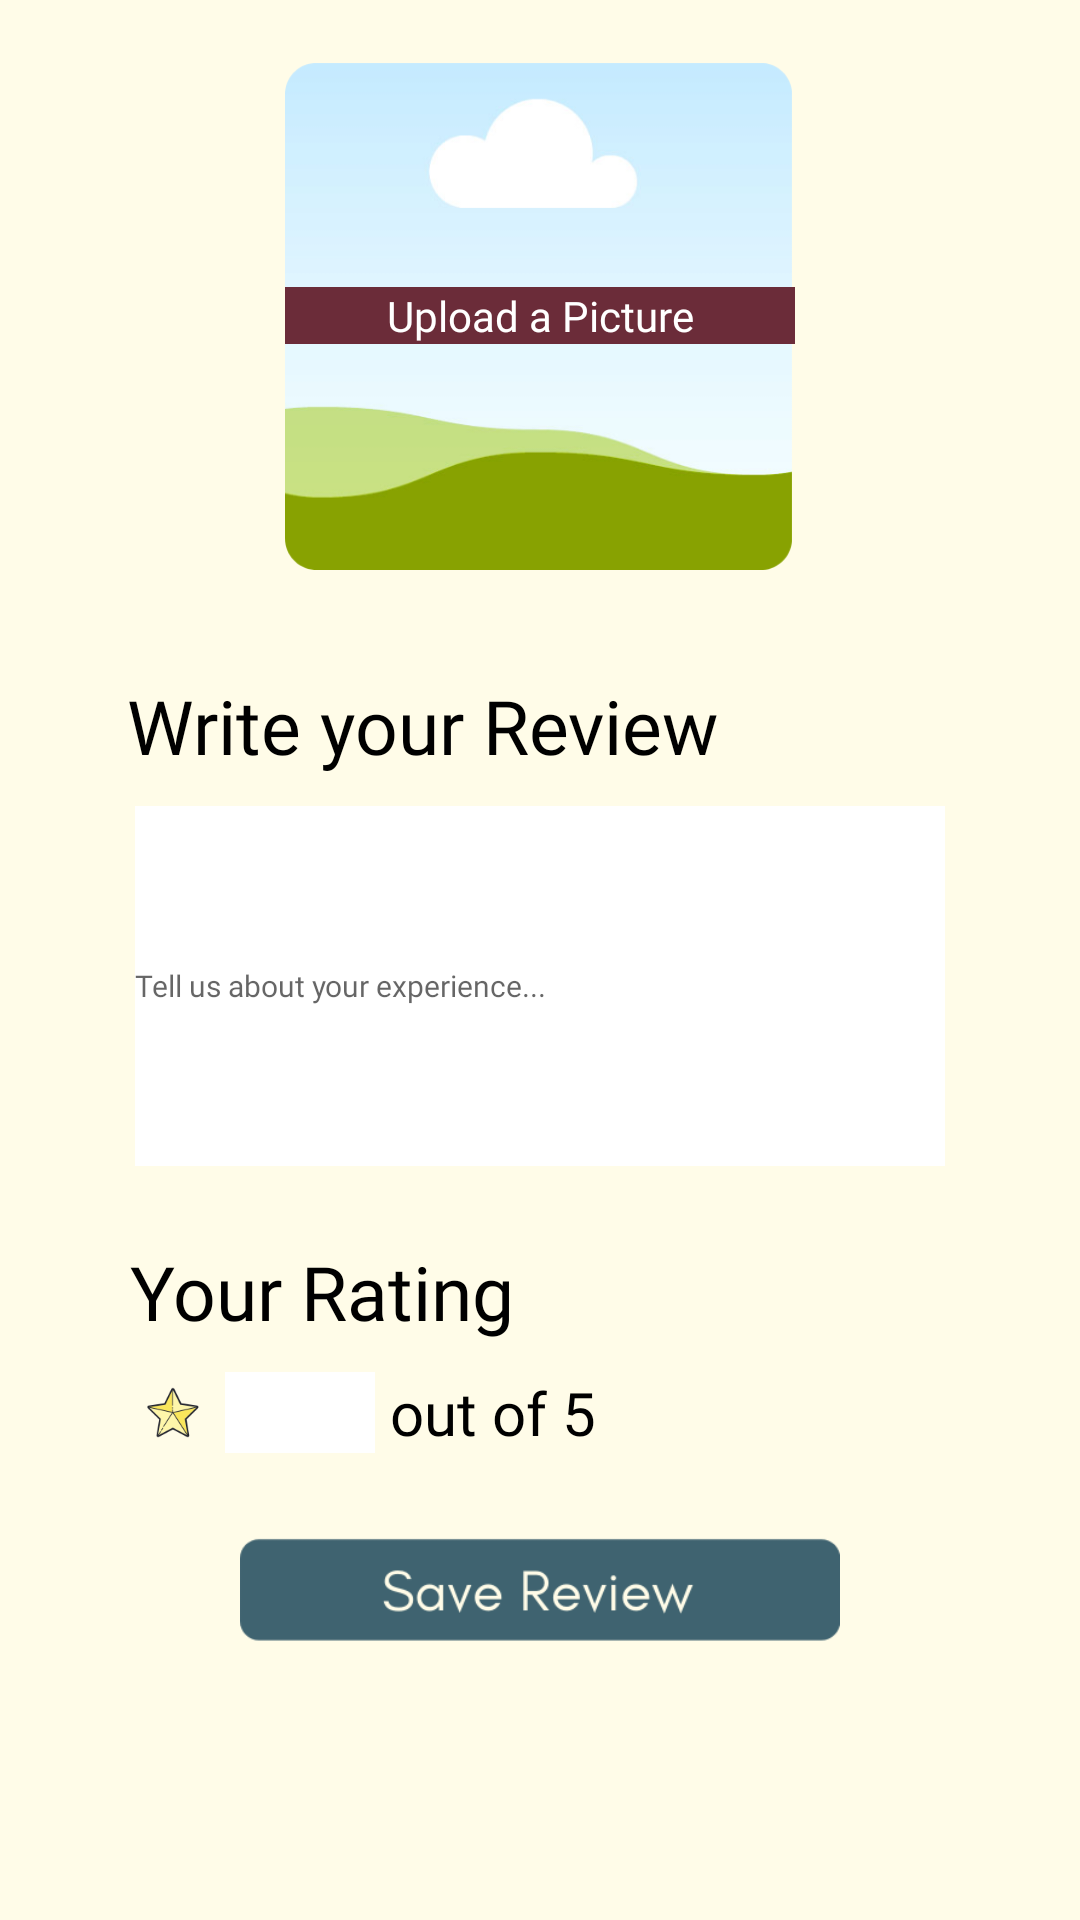

Locate icon controls on the screen. Image size 1080px×1920px, boxes as (x1, y1, x2, y2).
ratingicon: (147, 1388, 199, 1438)
